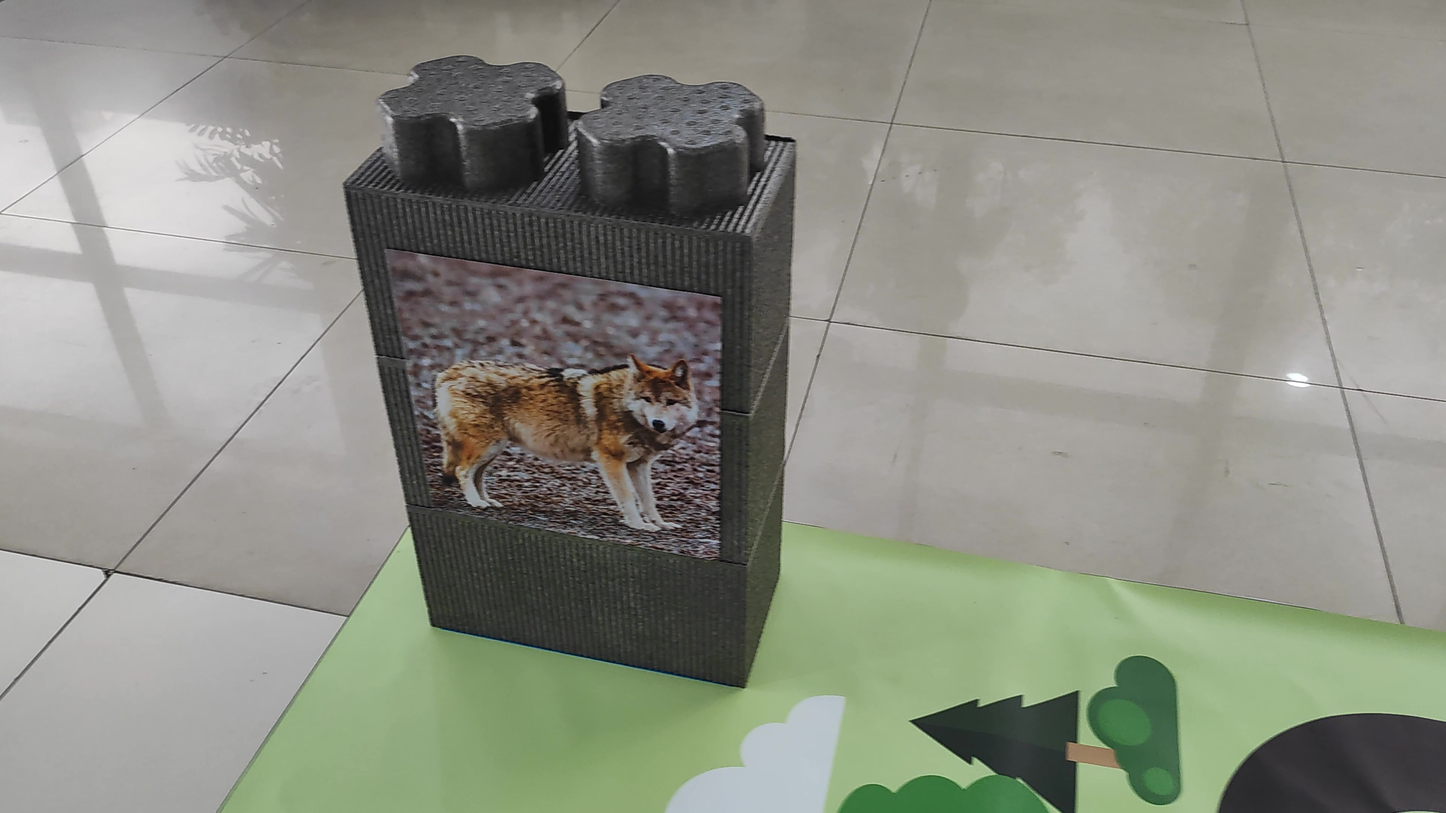wolf: (423, 324, 707, 556)
